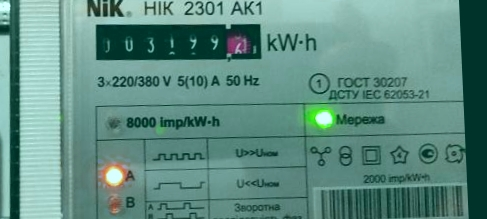0: (98, 33, 111, 54), (121, 32, 134, 52)
1: (165, 30, 176, 49)
3: (143, 34, 155, 53)
6: (233, 39, 243, 55)
9: (186, 30, 198, 50), (207, 31, 219, 50)
screen: (87, 12, 271, 74)
